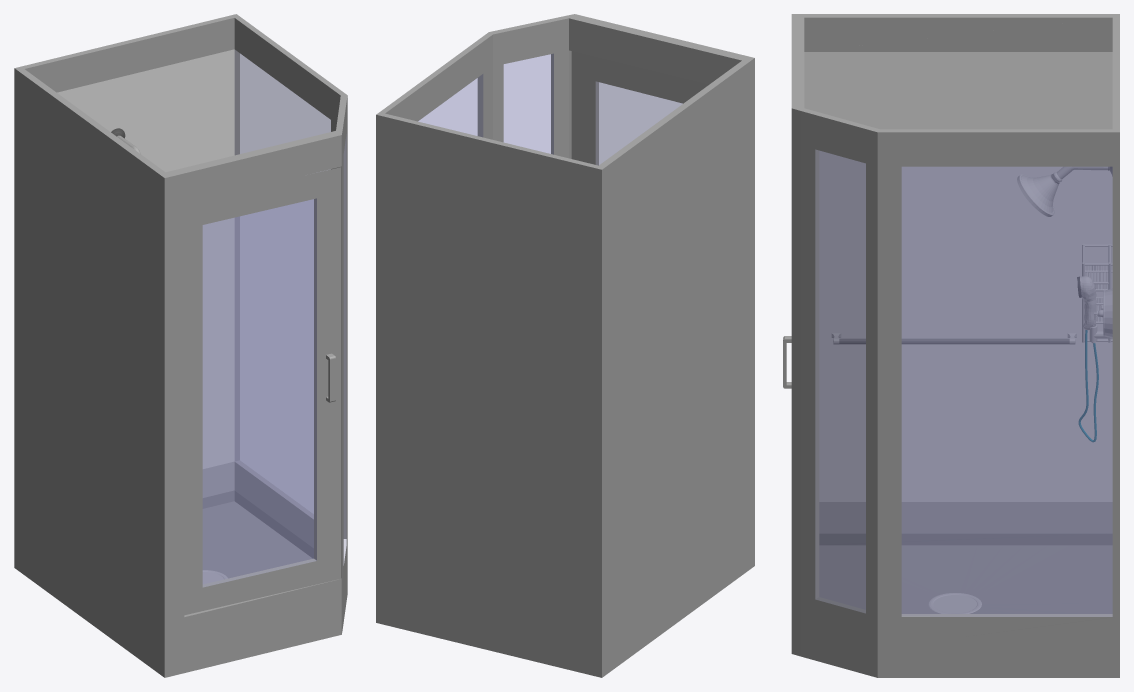
The model's file is sweethome3d-blendswap-cc-0-shower-stall-130.glb.
3 renders of one model, left to right at view 1: azimuth 30°, elevation 25°; view 2: azimuth 150°, elevation 25°; view 3: azimuth 270°, elevation 25°, orthographic. The views are drawn at different scales.
Parts seen in each view (by area): view 1: Shower_stall_ED_Cube.096, Shower_stall_door_ED_Cube.097, Tiles_Cube.002; view 2: Shower_stall_ED_Cube.096, Shower_stall_door_ED_Cube.097; view 3: Shower_stall_ED_Cube.096, Tiles_Cube.002, Shower_spray_head_ED_Tee_Joint.002, Shower_faucet_ED_Cylinder.028.
Boxes of the visible parts, box(x1,y1,x2,y2) form: Shower_stall_ED_Cube.096: box(14, 14, 347, 677); Shower_stall_door_ED_Cube.097: box(184, 167, 341, 615); Tiles_Cube.002: box(57, 49, 234, 468); Shower_stall_ED_Cube.096: box(376, 14, 754, 677); Shower_stall_door_ED_Cube.097: box(571, 51, 708, 165); Shower_stall_ED_Cube.096: box(791, 14, 1119, 677); Tiles_Cube.002: box(804, 52, 1112, 501); Shower_spray_head_ED_Tee_Joint.002: box(1077, 276, 1098, 442); Shower_faucet_ED_Cylinder.028: box(1094, 289, 1112, 337).
Bounding box in the file's own units: 93.06 × 200 × 112.
